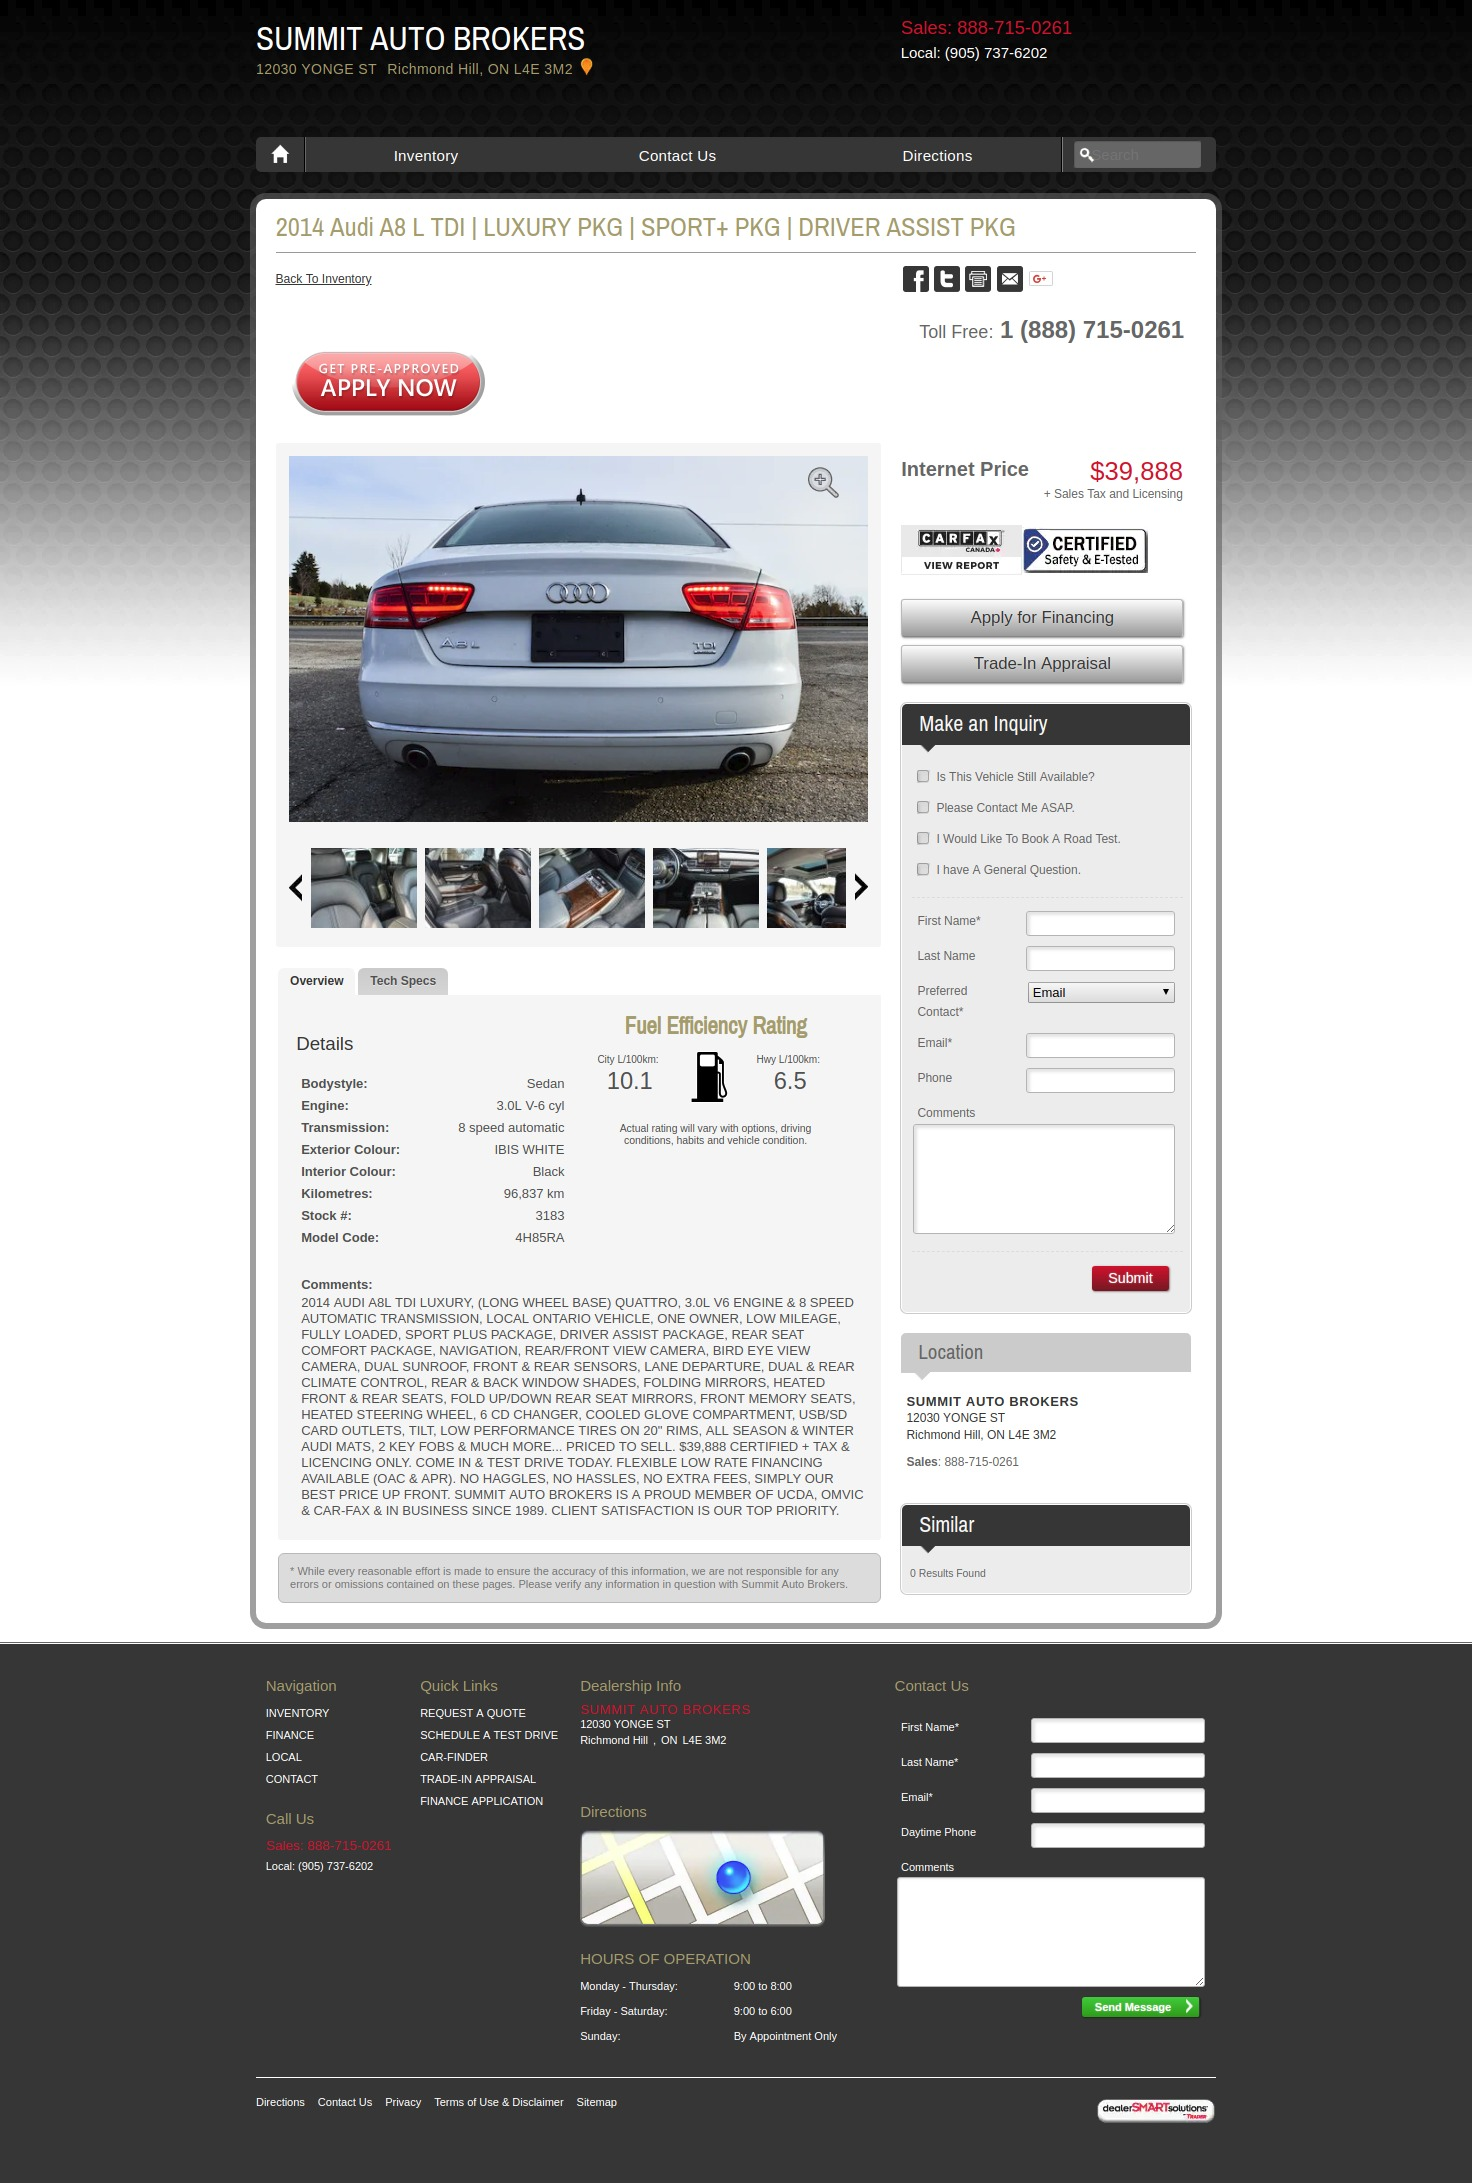car: (854, 872, 869, 902)
